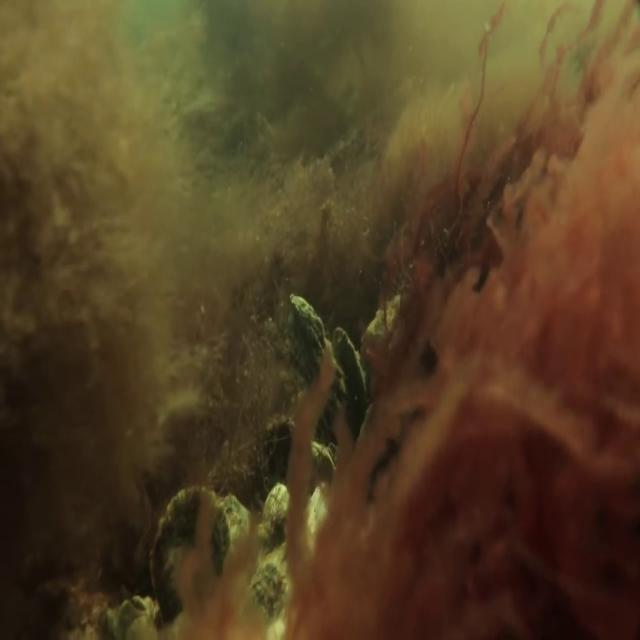Oyster-Closed: (277, 278, 350, 440), (327, 315, 373, 417)
Oyster-Indeterminate: (147, 479, 236, 624), (359, 285, 401, 378)
